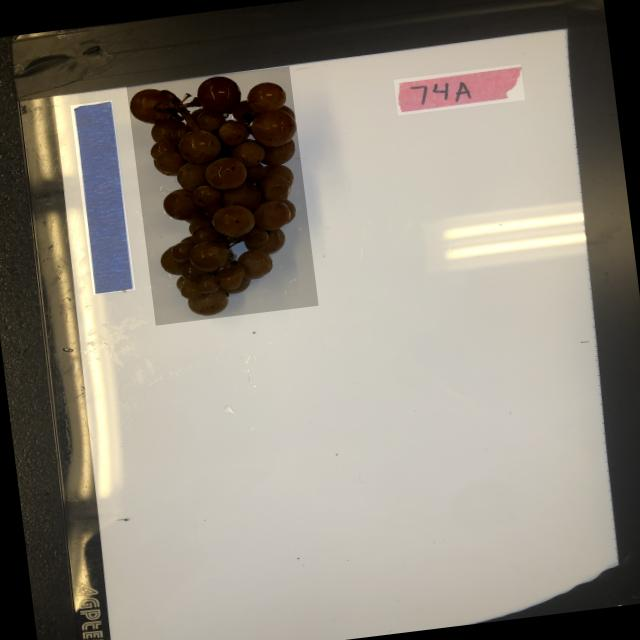grape_cluster: (126, 66, 318, 325)
index: (394, 64, 525, 115)
measure_label: (70, 100, 135, 294)
